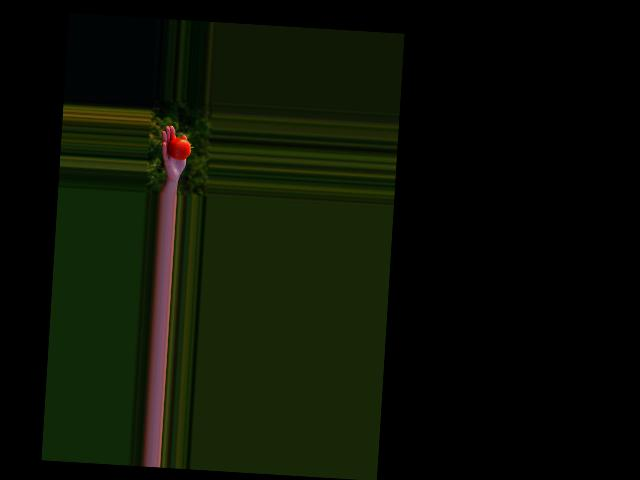tomato: (166, 137, 191, 160)
